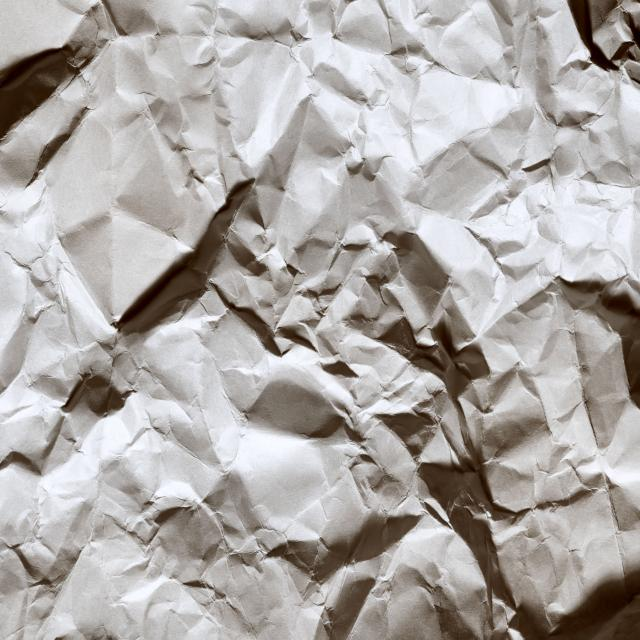paper: (167, 99, 525, 555)
